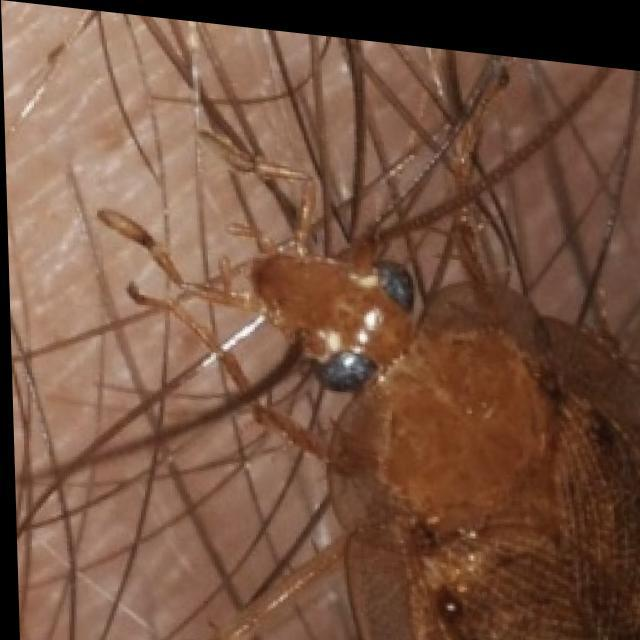cockroach: (210, 173, 638, 638)
